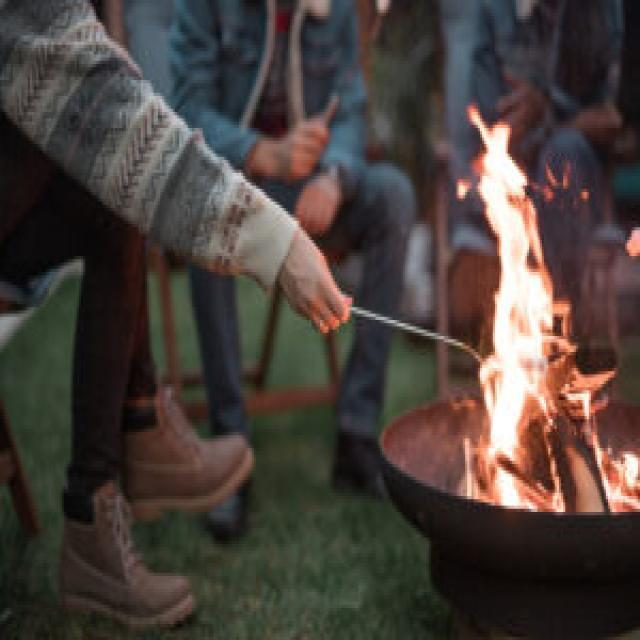Fire: (448, 101, 612, 522)
